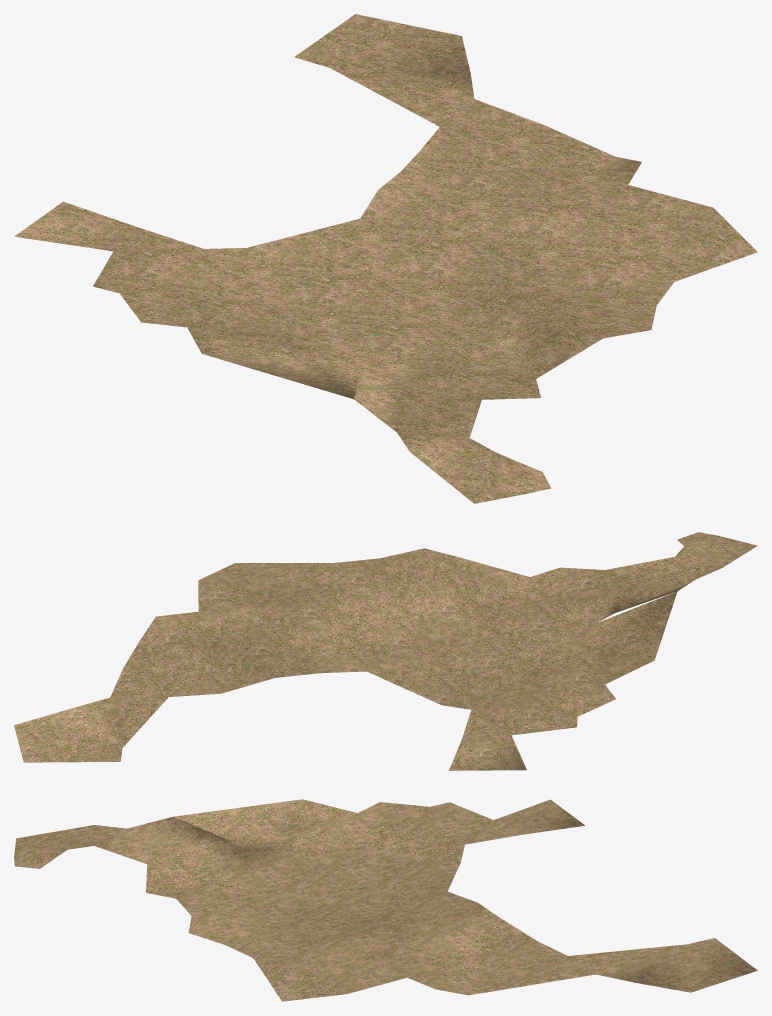
File: caminoD.obj
3 views of the same model, one above another, from view 1: azimuth 30°, elevation 25°; view 2: azimuth 150°, elevation 25°; view 3: azimuth 270°, elevation 25° (orthographic). The views are drawn at different scales.
Visible parts, largest first — view 1: floating_island_1.002; view 2: floating_island_1.002; view 3: floating_island_1.002.
Part boxes in pixels (left/top/right/bottom): floating_island_1.002: left=14, top=14, right=757, bottom=503; floating_island_1.002: left=14, top=532, right=757, bottom=770; floating_island_1.002: left=14, top=799, right=757, bottom=1001.
Bounding box in the file's own units: 114 × 5.51 × 185.
Materials: 1 (1 with a texture image).
